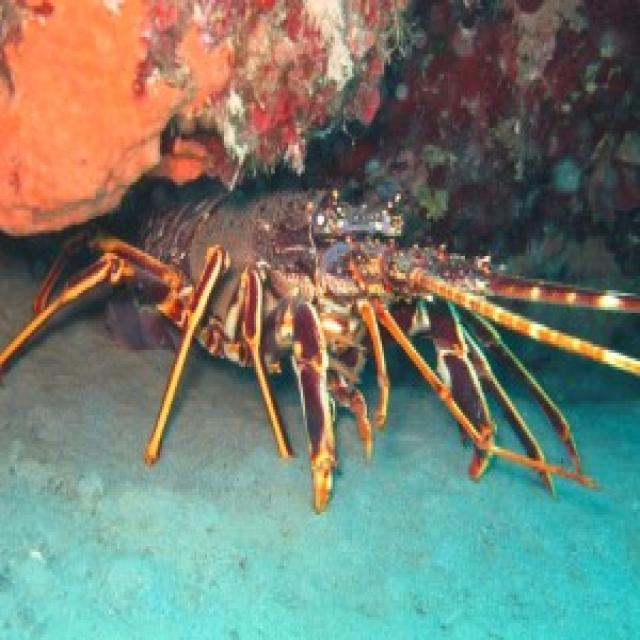lobsters: (0, 9, 640, 536)
